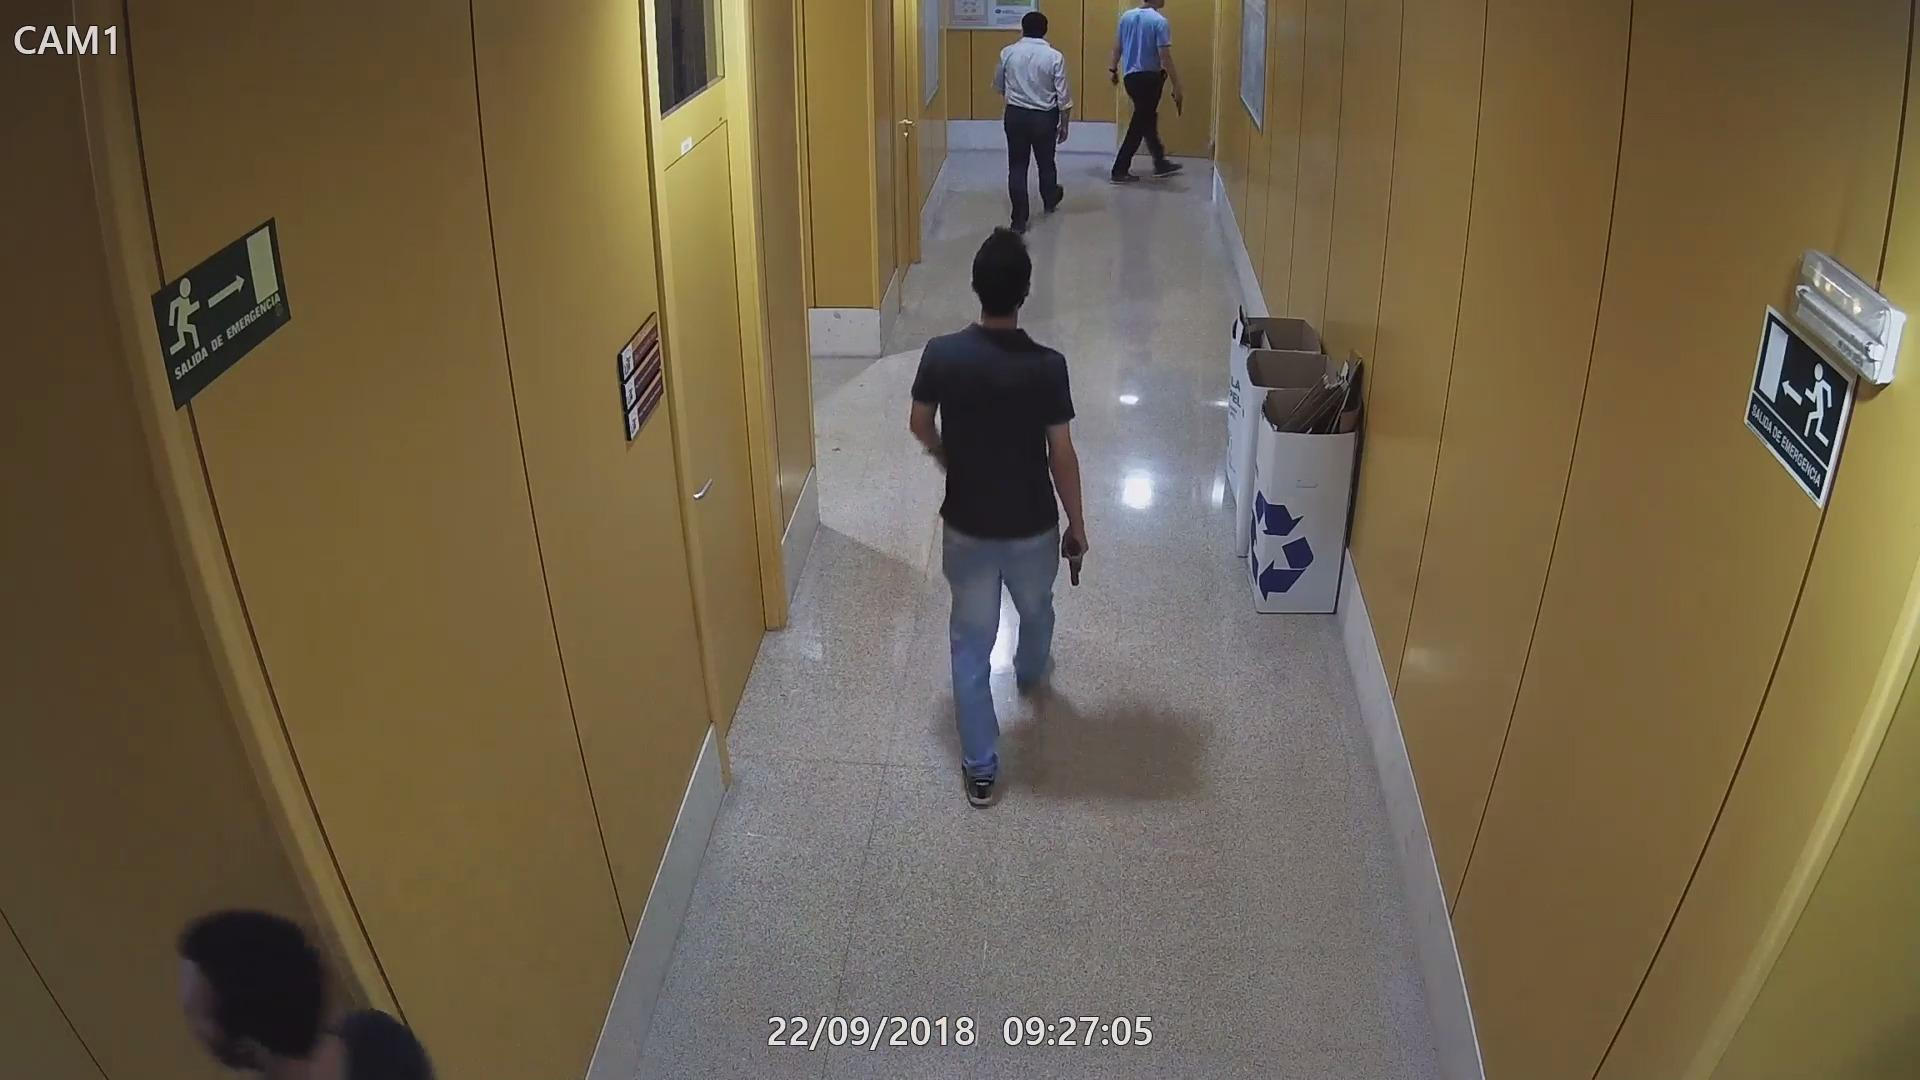Handgun: (1058, 524, 1089, 588), (1164, 86, 1191, 116)
